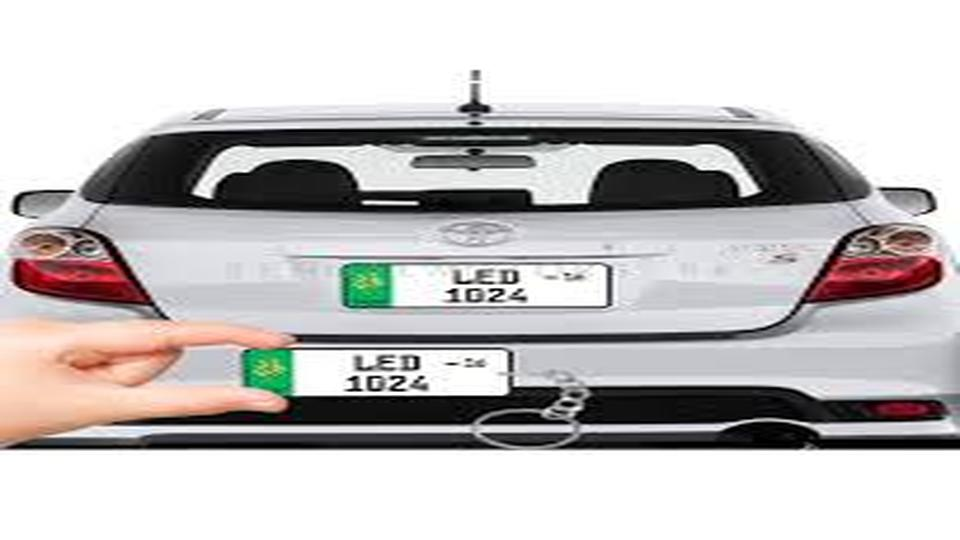NumberPlate: (336, 248, 625, 321), (239, 340, 522, 411)
